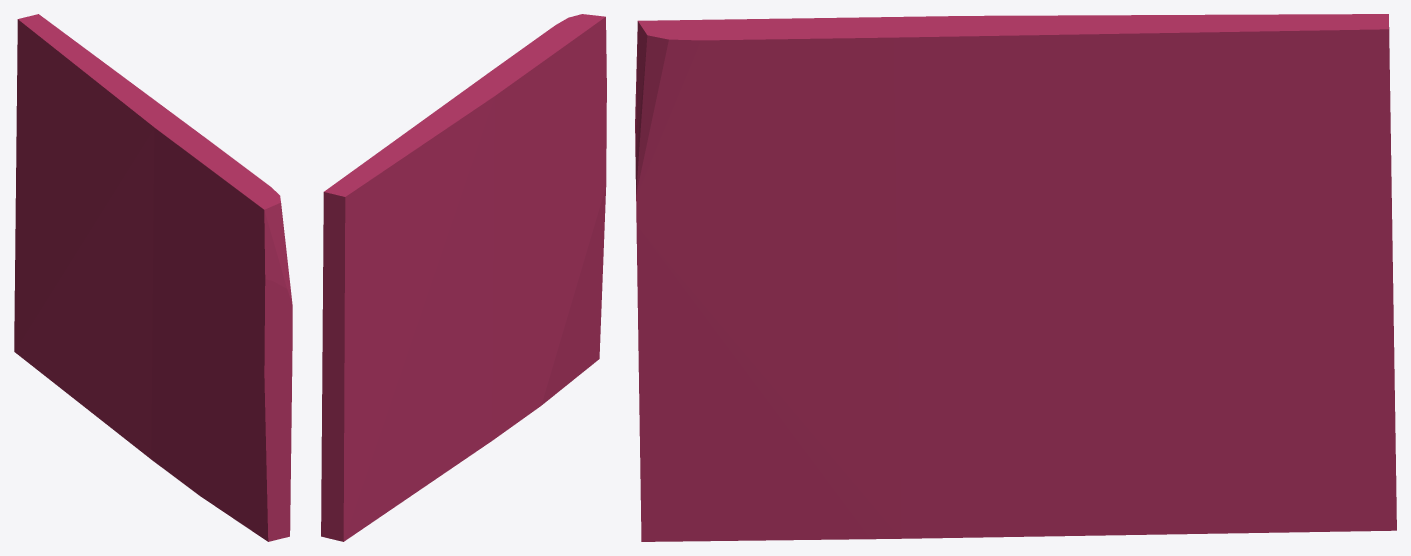
The model's file is converted_Downdraft_Assy_collision_89_bd3869ff.obj.
3 renders of one model, left to right at view 1: azimuth 30°, elevation 25°; view 2: azimuth 150°, elevation 25°; view 3: azimuth 270°, elevation 25°, orthographic. The views are drawn at different scales.
Size of the model in its own units: 0.0238 by 0.2651 by 0.3583.
